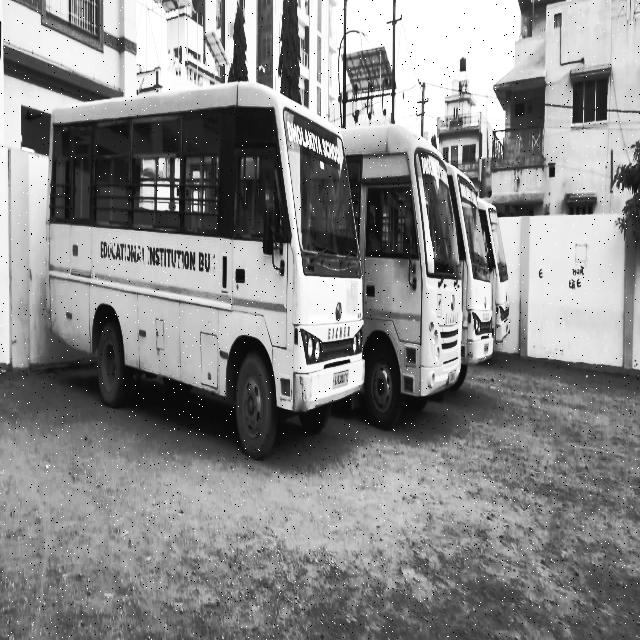Bus: (45, 76, 364, 457), (354, 118, 463, 421), (448, 158, 494, 404), (485, 197, 517, 361)
